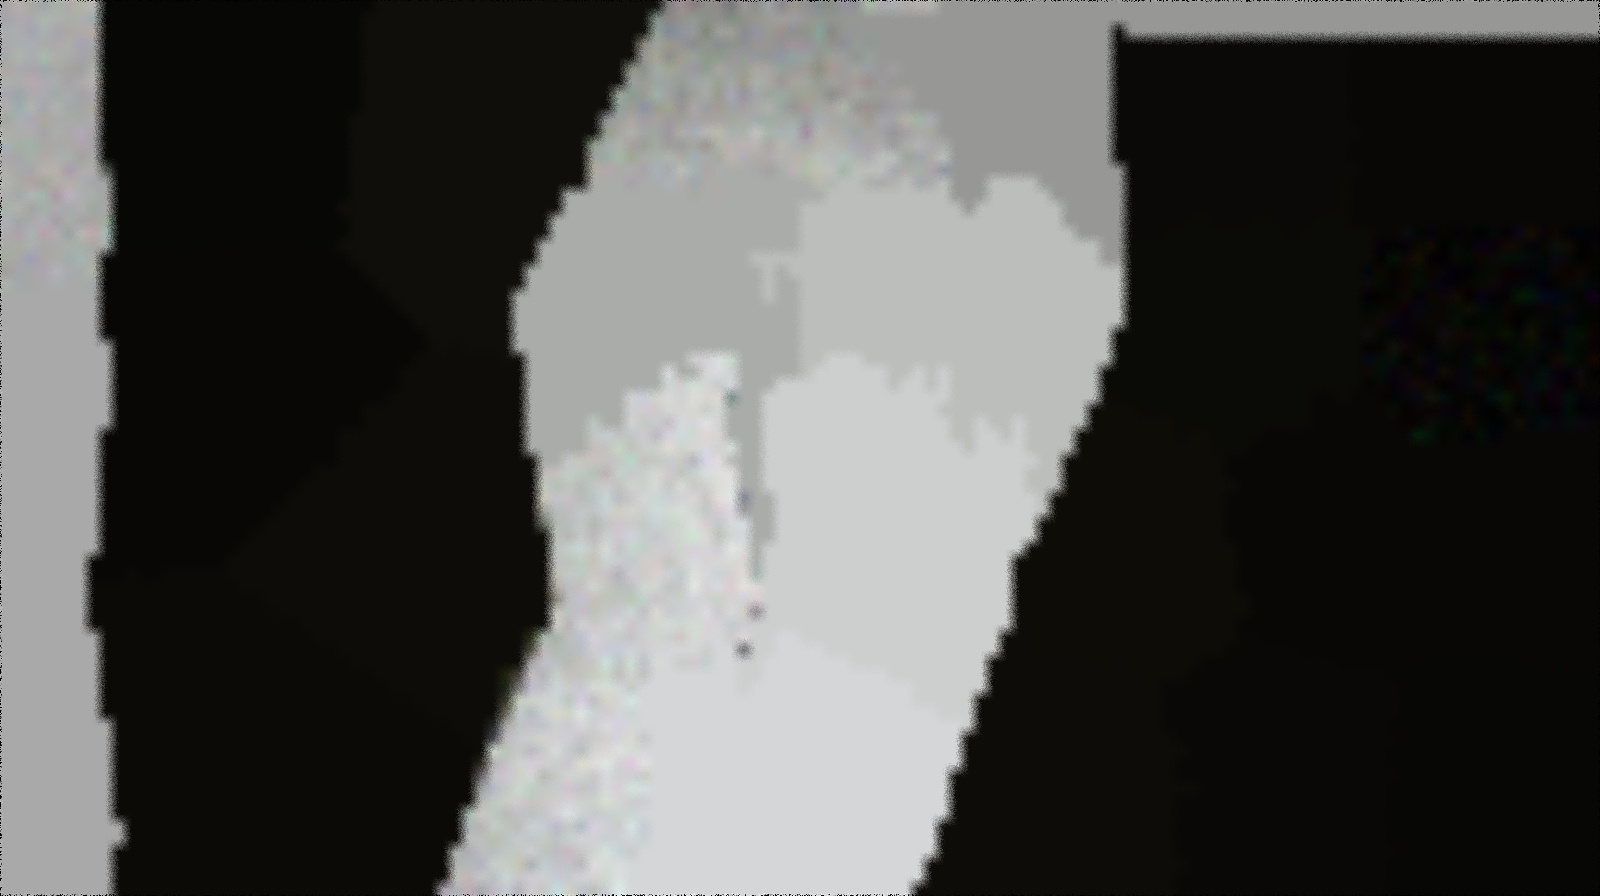S002: (636, 229, 873, 703)
